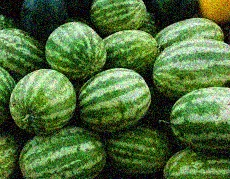watermelon: (77, 68, 153, 134), (19, 128, 108, 178), (10, 67, 75, 135), (154, 41, 230, 96), (46, 22, 108, 77)
